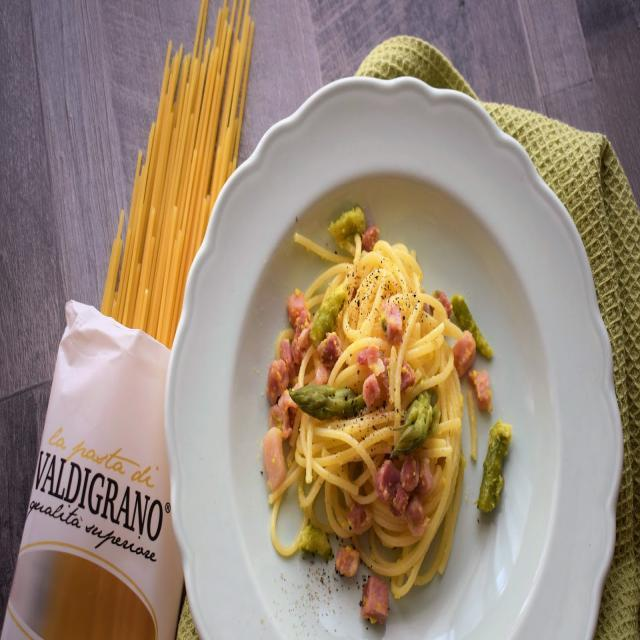Pasta with carbonara sauce: (216, 225, 553, 630)
